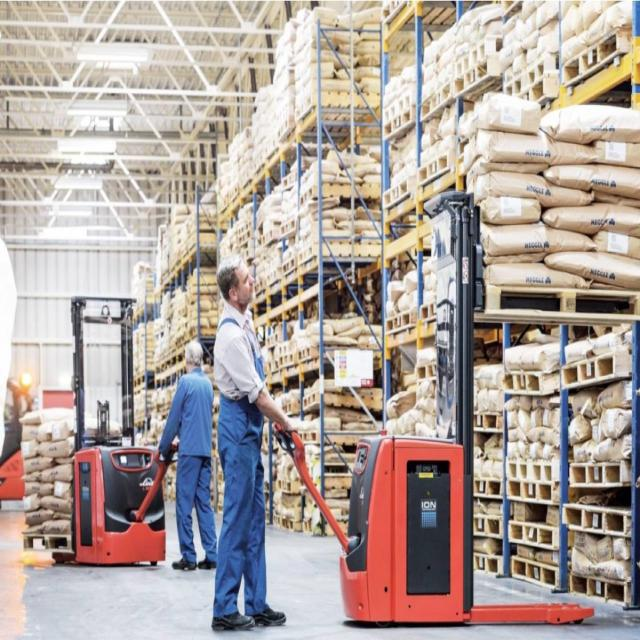Person: (211, 254, 297, 636), (157, 339, 218, 570)
